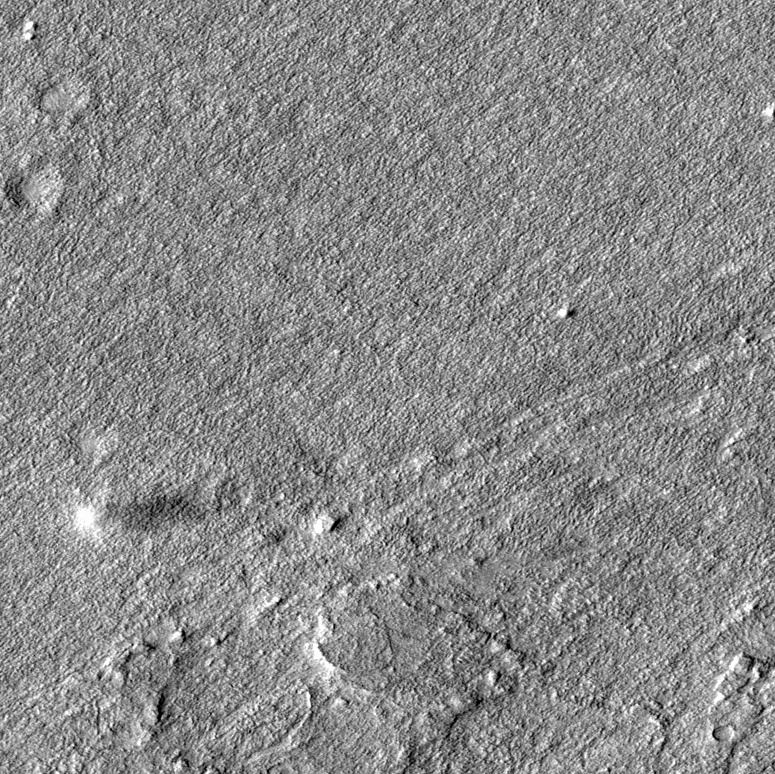dust_devil: (68, 492, 208, 541)
